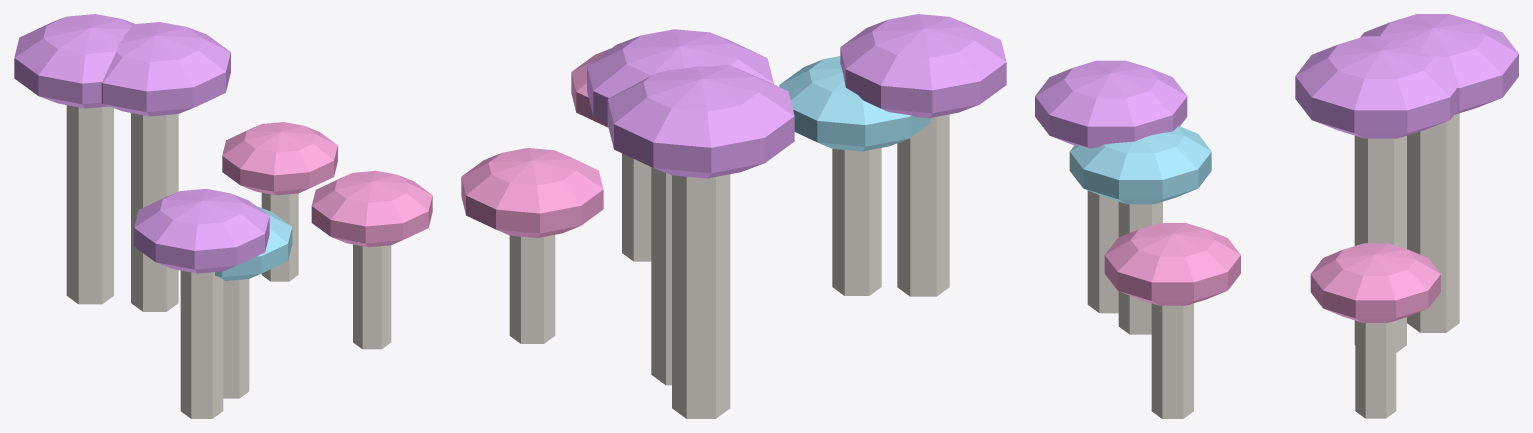
The model's file is GlowcapCluster.fbx.
3 views of the same model, side by side, from view 1: azimuth 30°, elevation 25°; view 2: azimuth 150°, elevation 25°; view 3: azimuth 270°, elevation 25° (orthographic). The views are drawn at different scales.
Visible parts, largest first — view 1: Prop_GlowcapCluster; view 2: Prop_GlowcapCluster; view 3: Prop_GlowcapCluster.
Part boxes in pixels (<box>): Prop_GlowcapCluster: <box>14,14,432,418</box>; Prop_GlowcapCluster: <box>461,14,1006,418</box>; Prop_GlowcapCluster: <box>1035,14,1518,418</box>.
Bounding box in the file's own units: 0.6583 × 0.5505 × 0.8182.
